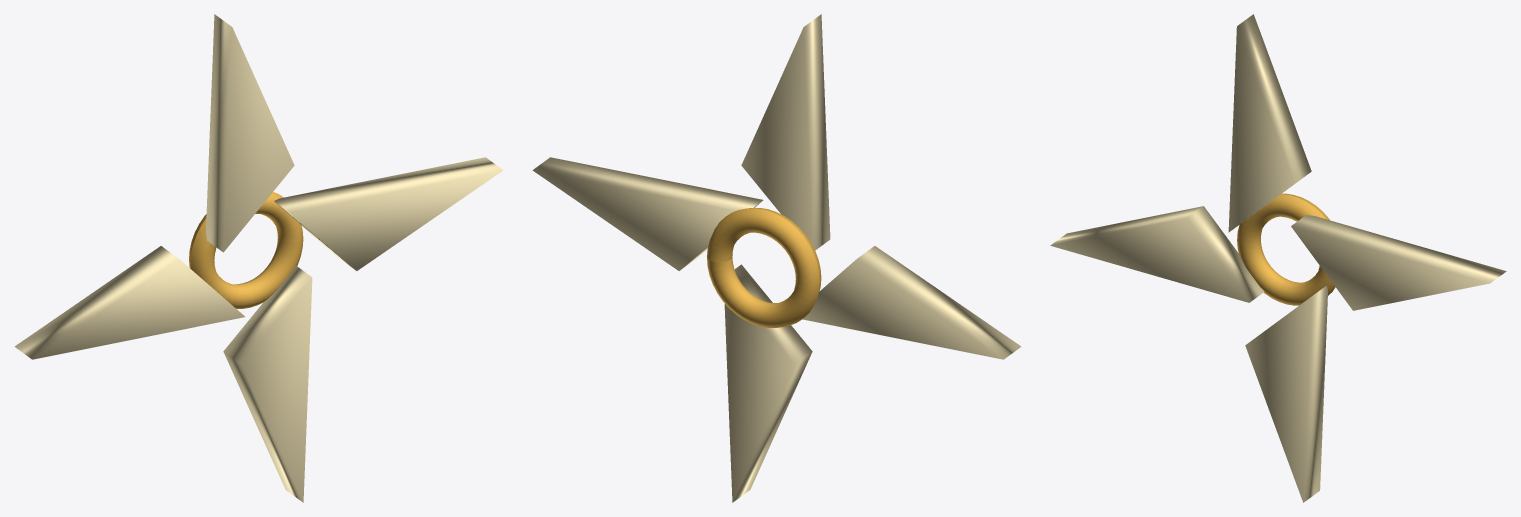
File: weapon_ninja-shuriken.glb
3 renders of one model, left to right at view 1: azimuth 30°, elevation 25°; view 2: azimuth 150°, elevation 25°; view 3: azimuth 330°, elevation 25°, orthographic. The views are drawn at different scales.
Parts seen in each view (by area): view 1: StarBlade (×4), StarHub; view 2: StarBlade (×4), StarHub; view 3: StarBlade (×4), StarHub.
Boxes of the visible parts, left/top/right/bottom form: StarBlade (×4): left=14, top=14, right=503, bottom=502; StarHub: left=189, top=192, right=303, bottom=308; StarBlade (×4): left=532, top=14, right=1021, bottom=502; StarHub: left=707, top=208, right=821, bottom=327; StarBlade (×4): left=1050, top=14, right=1506, bottom=502; StarHub: left=1237, top=193, right=1335, bottom=305.
Bounding box in the file's own units: 1.06 × 1.06 × 0.1088.
